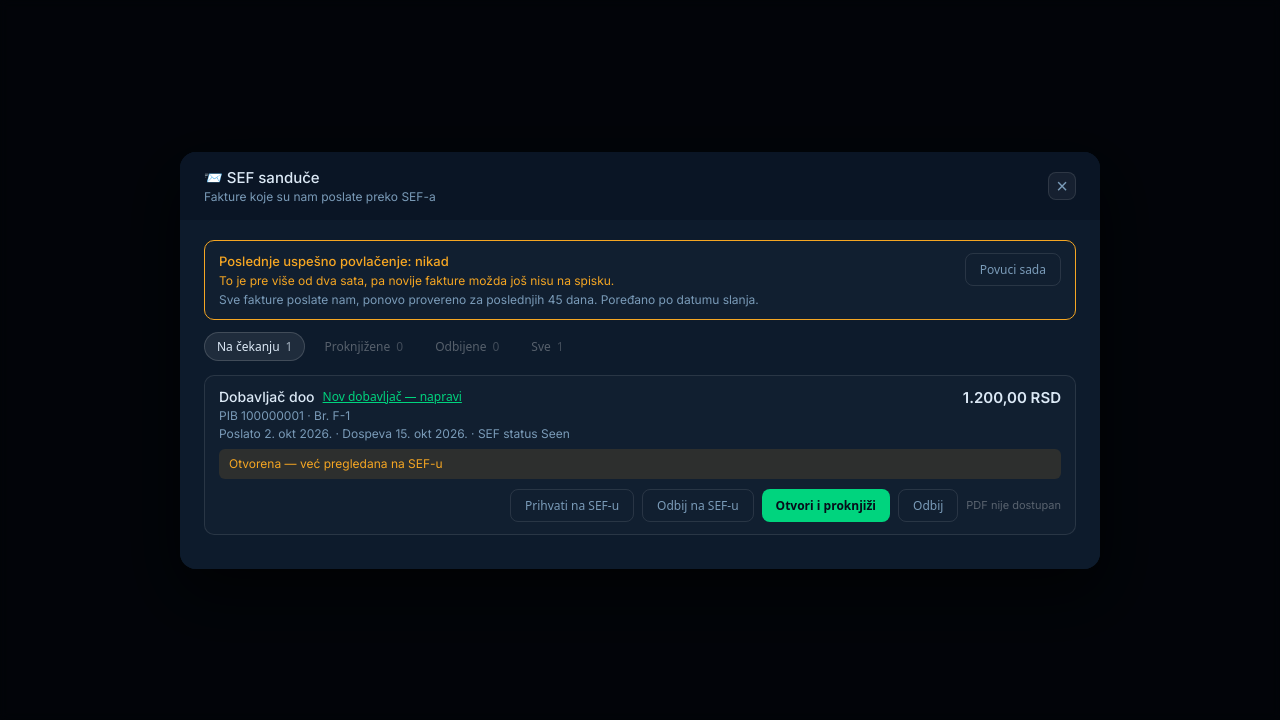
Scenario: deciding on SEF from the inbox › shows a refusal on the row and does not retry
Expected: the text "Dobavljač doo" is shown, [219,388,315,404]
Click the button "Prihvati na SEF-u": x=572, y=505 [510,488,634,522]
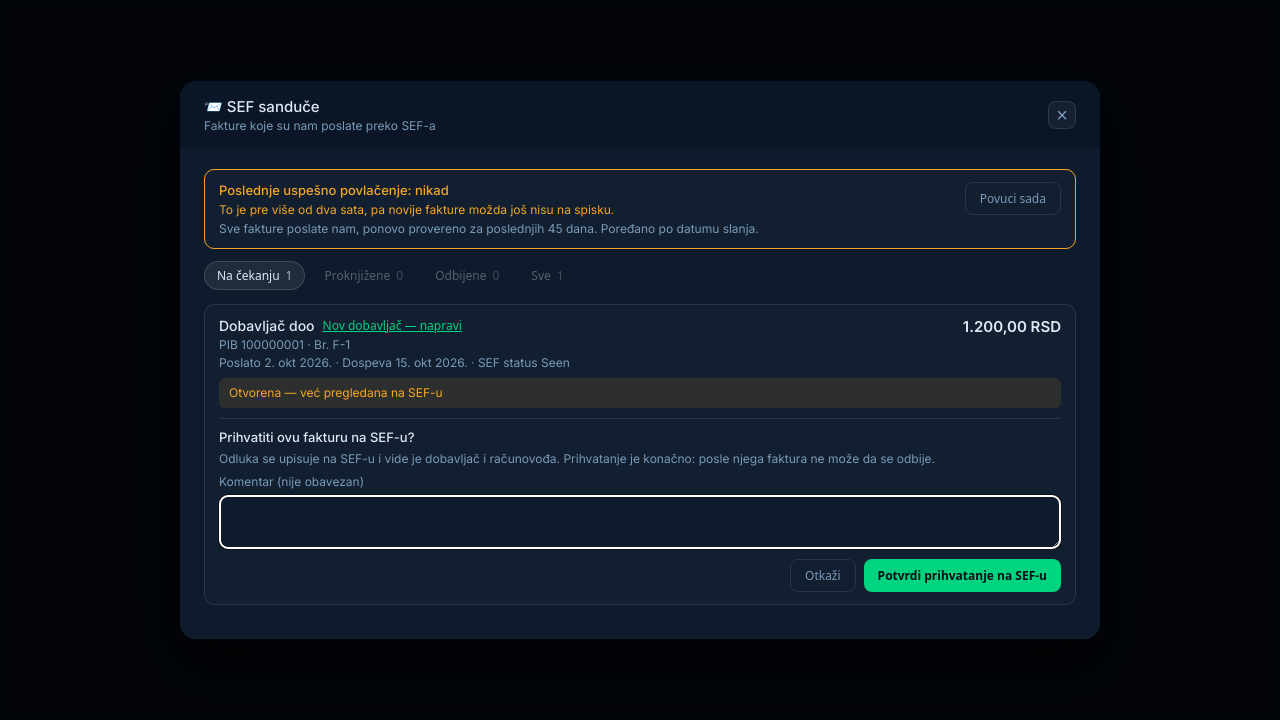
Click the button "Potvrdi prihvatanje na SEF-u": x=962, y=576 [864,559,1061,592]
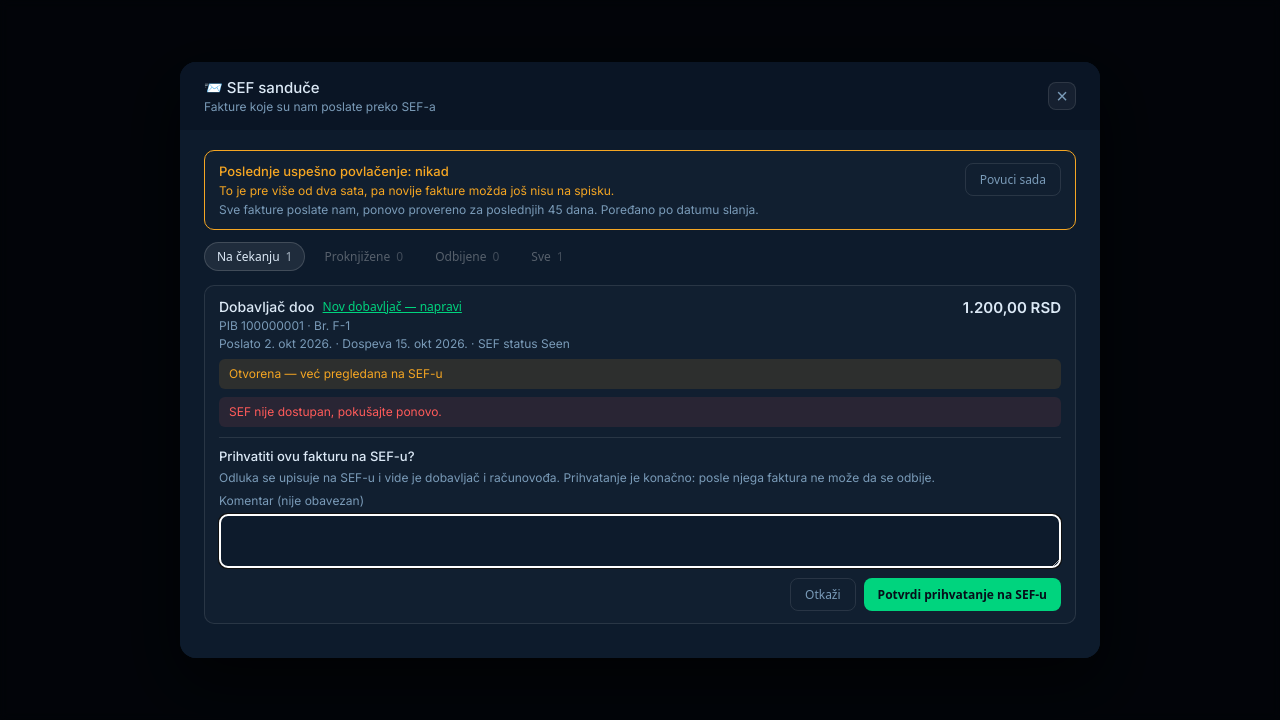
Now the button "Potvrdi prihvatanje na SEF-u" is shown, box [864,578,1061,611]
Now the message reads "SEF nije dostupan, pokušajte ponovo.", box [229,404,442,419]
